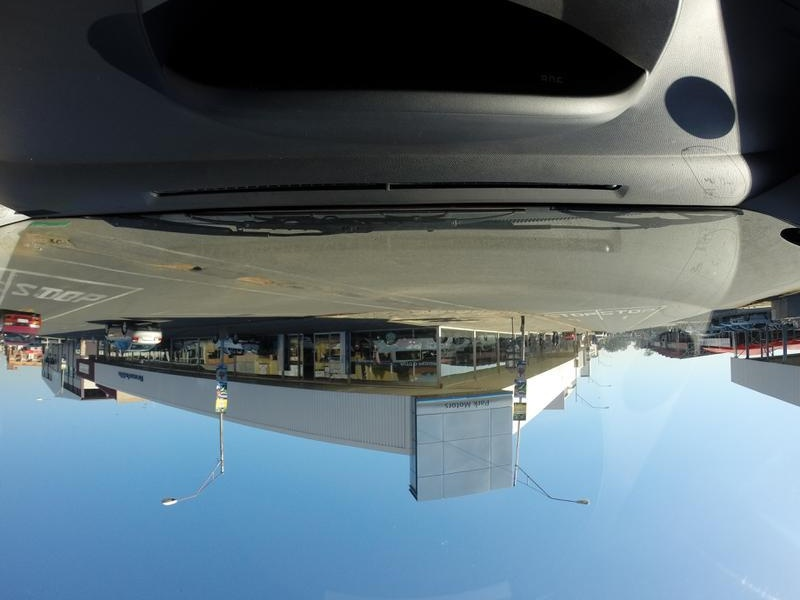pothole: (221, 264, 278, 301), (23, 227, 80, 259), (156, 256, 203, 281)
